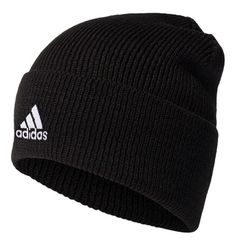adidas Originale: (13, 100, 53, 145)
